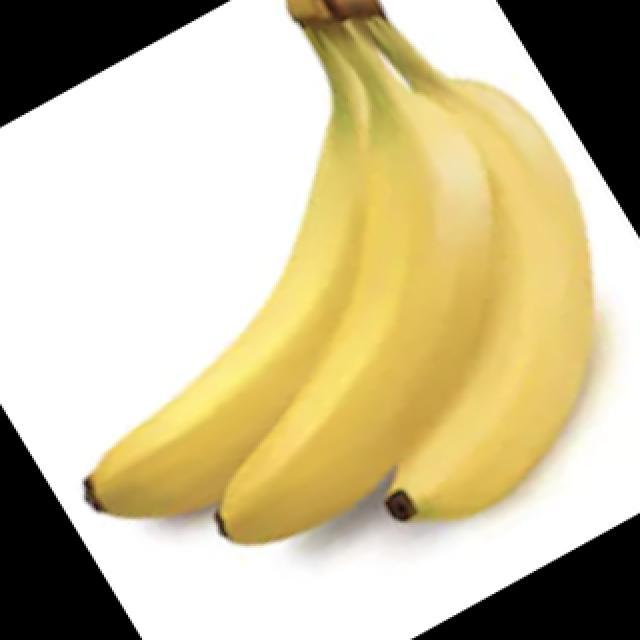Banana: (81, 0, 595, 546)
